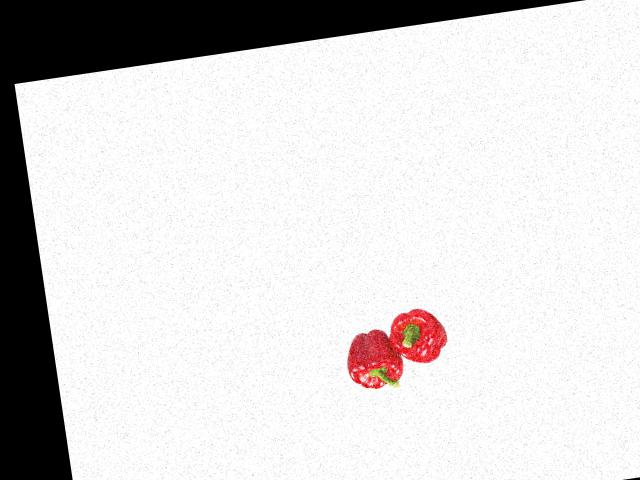bell_pepper: (340, 321, 408, 396)
